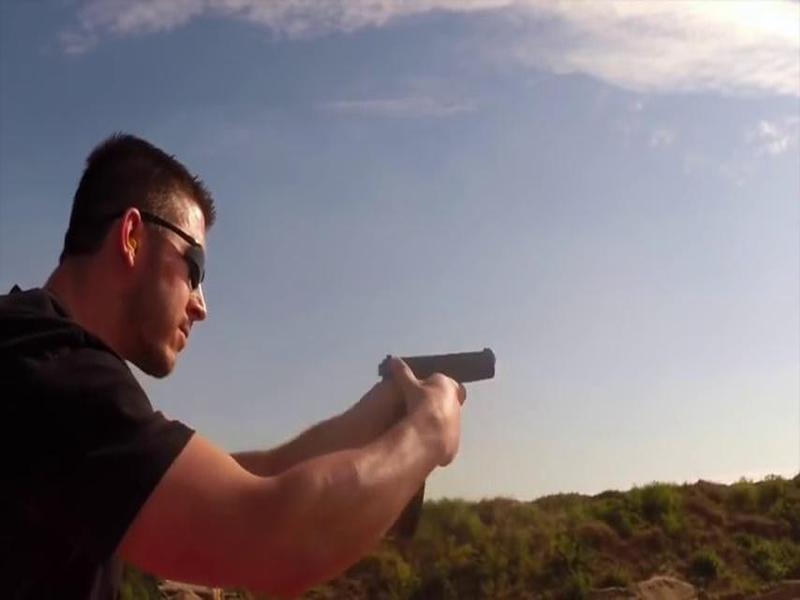Pistola: (356, 338, 515, 459)
